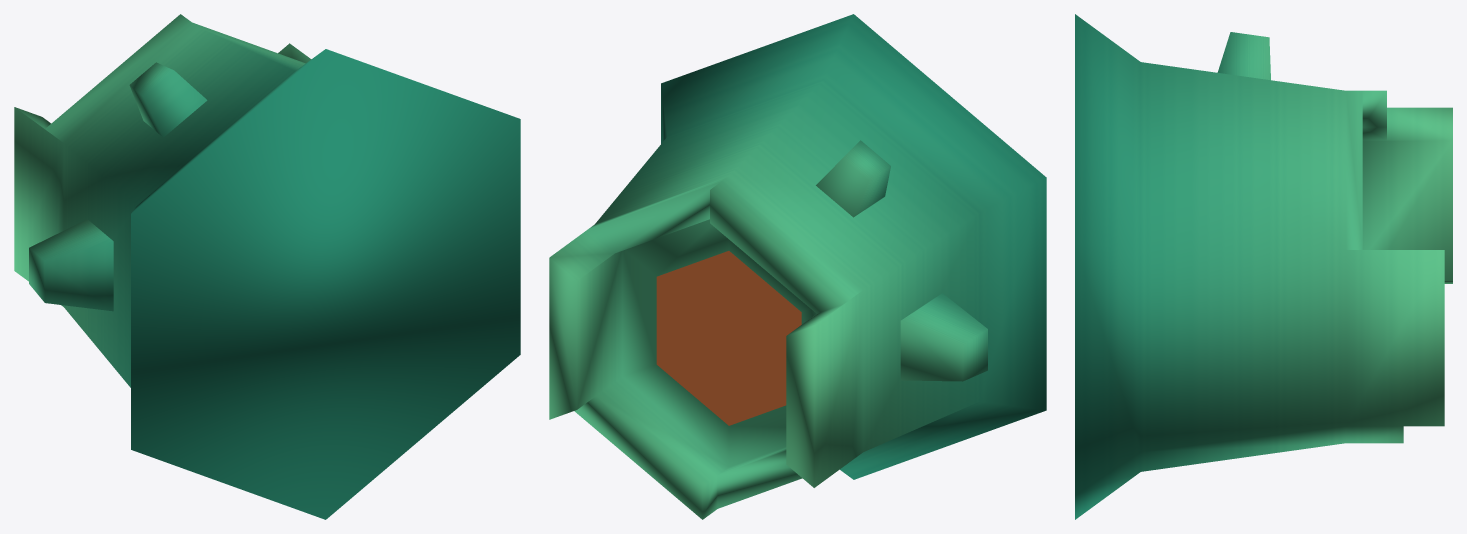
Rendered from trunk.obj.
The picture shows the model from 3 angles, left to right: view 1: azimuth 30°, elevation 25°; view 2: azimuth 150°, elevation 25°; view 3: azimuth 270°, elevation 25°; orthographic projection. The views are drawn at different scales.
Parts seen in each view (by area): view 1: trunk.002; view 2: trunk.002; view 3: trunk.002.
Boxes of the visible parts, x1,y1,x2,y2 form: trunk.002: (14,14,520,519); trunk.002: (549,14,1046,519); trunk.002: (1075,14,1452,519).
Size of the model in its own units: 0.4933 by 0.5508 by 0.3726.
